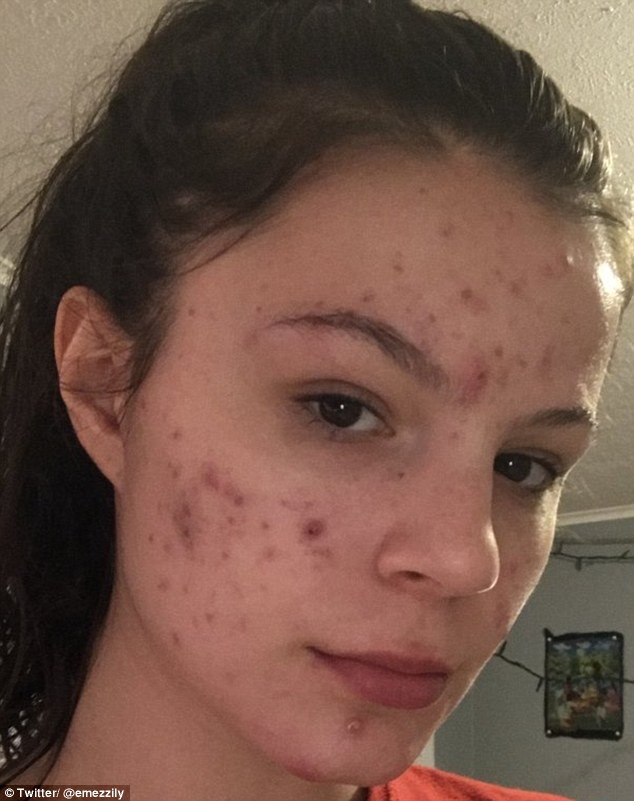Acne: (111, 211, 581, 692)
